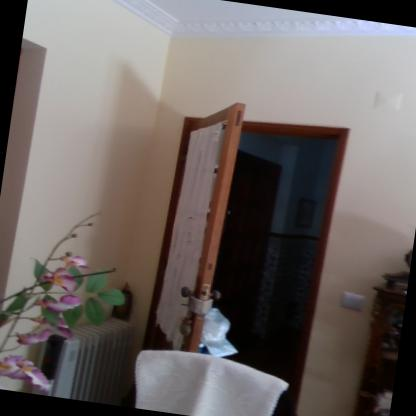semi: (134, 84, 384, 415)
